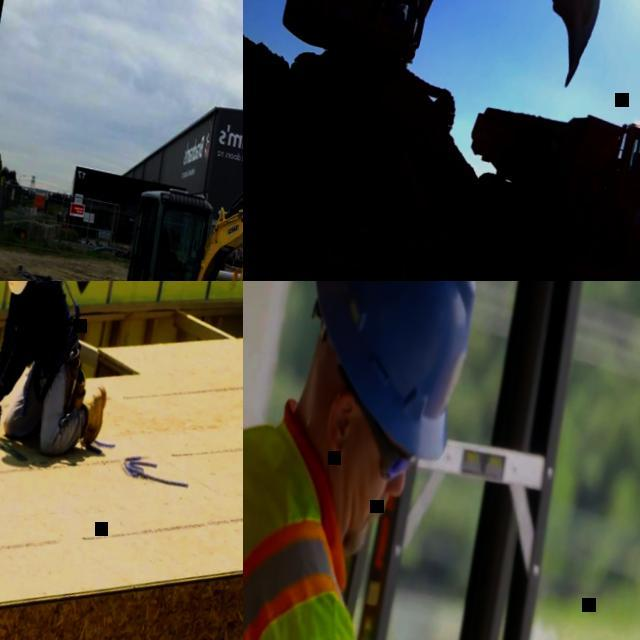helmet: (283, 281, 492, 460), (0, 281, 40, 300)
vest: (243, 402, 404, 640)
